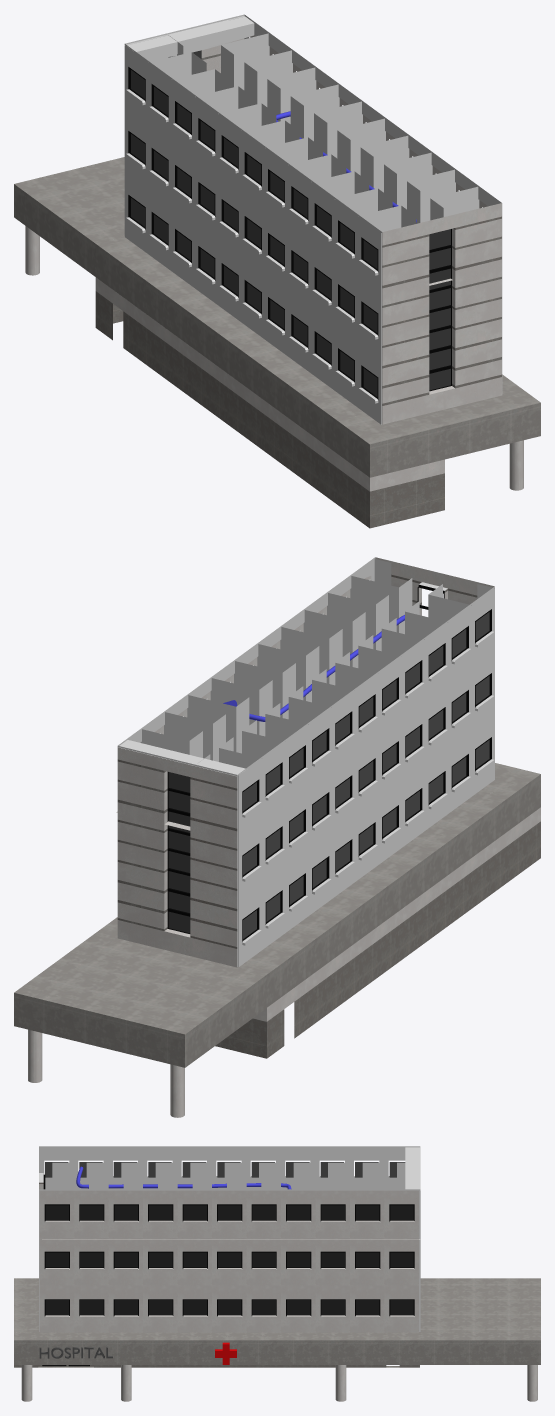
File: first_patient.glb
The picture shows the model from 3 angles, top to bottom: view 1: azimuth 30°, elevation 25°; view 2: azimuth 150°, elevation 25°; view 3: azimuth 270°, elevation 25°; orthographic projection. The views are drawn at different scales.
Visible parts, largest first — view 1: Cube.001, Cubo, Cubo.003, Cubo.001, Cube, Cubo.002, Cilindro, Cilindro.004; view 2: Cube.001, Cubo, Cubo.002, Cube, Cubo.001, Cubo.003, Cilindro.004, Cilindro.003; view 3: Cube, Cubo, Cube.001, Cubo.003, Cubo.001, Cubo.002, BézierCurve, Texto, Cilindro, Cilindro.002, Cilindro.001, Cilindro.003 (+1 smaller).
Part boxes in pixels (x1,y1,x2,y2): Cube.001: (125,35,415,424); Cubo: (14,157,540,477); Cubo.003: (124,14,501,424); Cubo.001: (95,277,444,528); Cube: (221,16,502,394); Cubo.002: (124,16,254,235); Cilindro: (509,440,523,490); Cilindro.004: (25,226,39,275); Cube.001: (196,584,494,966); Cubo: (14,763,540,1067); Cubo.002: (117,740,247,967); Cube: (140,559,412,761); Cubo.001: (215,807,540,1058); Cubo.003: (117,557,494,776); Cilindro.004: (170,1064,184,1117); Cilindro.003: (28,1029,42,1082); Cube: (39,1173,418,1332); Cubo: (14,1278,540,1364); Cube.001: (44,1156,405,1189); Cubo.003: (39,1146,420,1331); Cubo.001: (14,1365,419,1367); Cubo.002: (405,1147,420,1331); BézierCurve: (76,1166,291,1189); Texto: (39,1347,112,1358); Cilindro: (21,1365,32,1401); Cilindro.002: (335,1365,346,1401); Cilindro.001: (121,1365,131,1401); Cilindro.003: (527,1365,537,1401).
Size of the model in its own units: 19.89 by 30.28 by 69.65.
30 materials, 13 textured.
